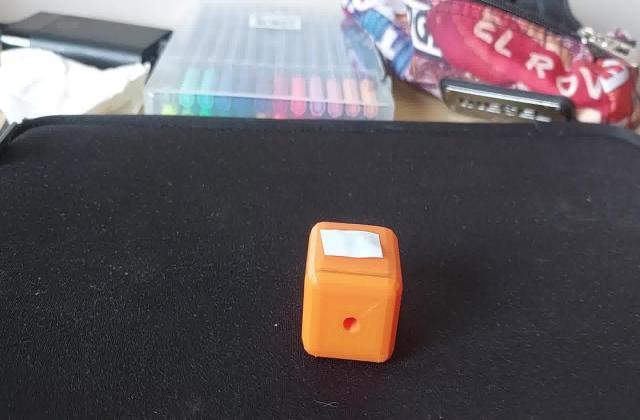cube: (301, 217, 409, 367)
white: (323, 229, 387, 264)
